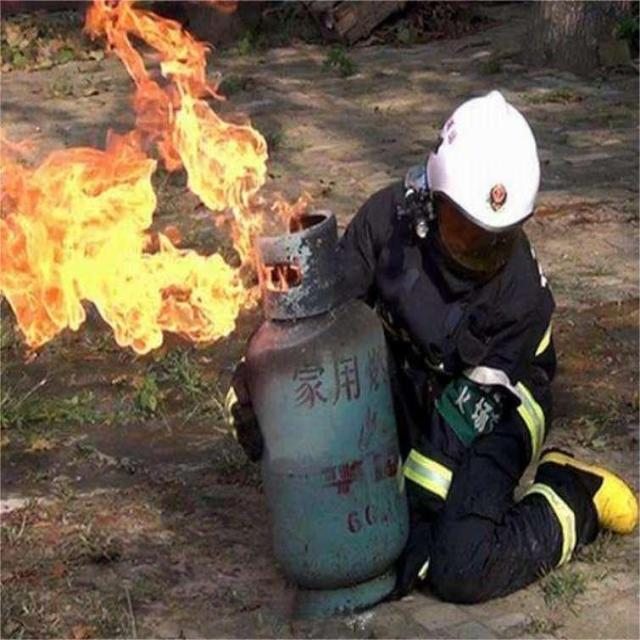Fire: (0, 0, 311, 358)
